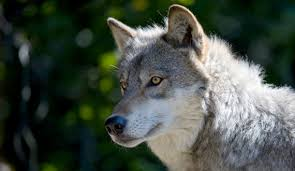wolf: (95, 3, 294, 171)
